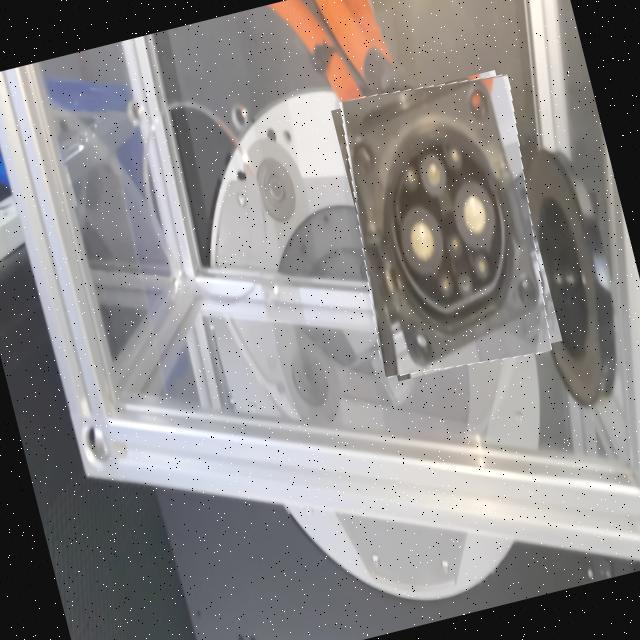GB-T: (350, 116, 554, 356)
